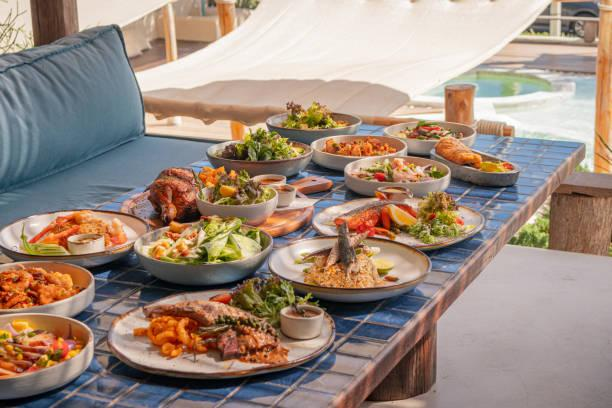Braised Crucian Carp: (107, 288, 328, 378), (272, 238, 427, 302), (312, 195, 478, 252), (134, 221, 273, 288), (1, 208, 150, 267), (345, 156, 451, 190), (279, 303, 324, 339)
